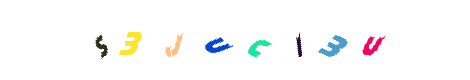3: (136, 0, 216, 80), (274, 0, 354, 80)
C: (194, 0, 274, 80)
I: (217, 0, 297, 80)
J: (156, 0, 236, 80)
S: (91, 0, 171, 80)
U: (176, 0, 256, 80), (331, 0, 411, 80)
